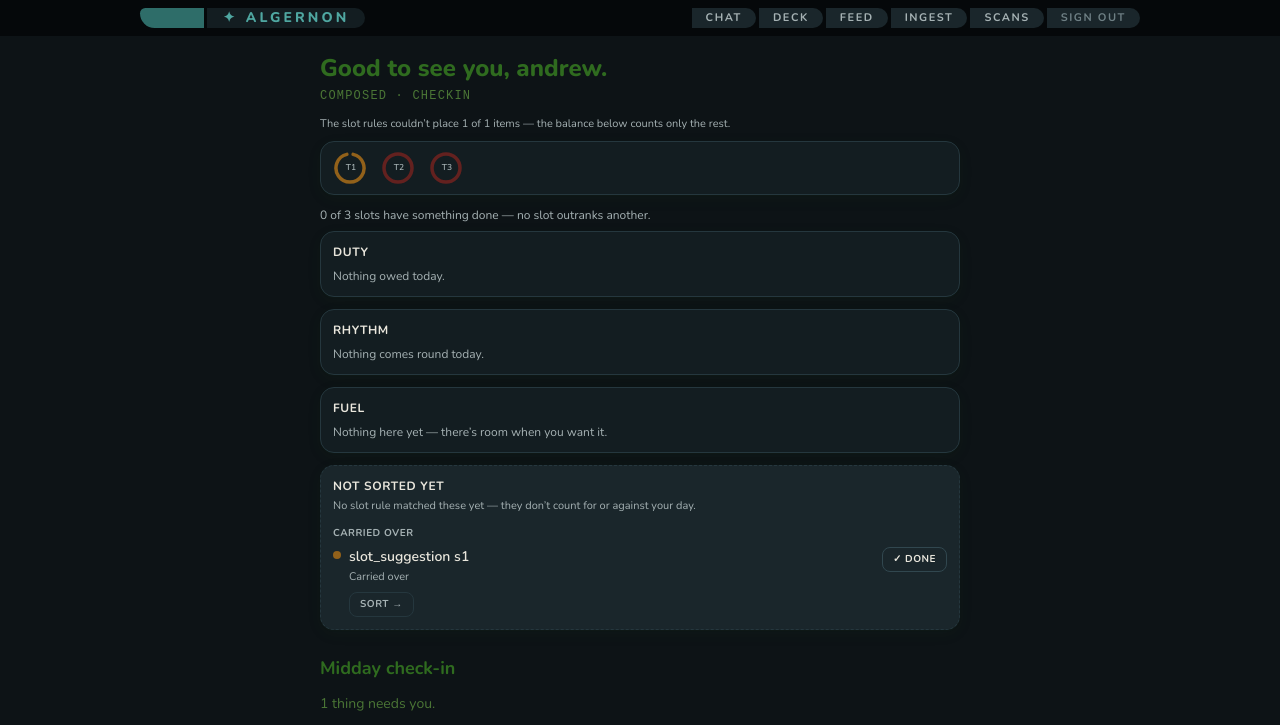
HomePage composer — a rings completion moves needs-you in the SAME render › a FAILED completion leaves the count where it was (tracks success, not the tap)
The width and height of the screenshot is (1280, 725).
Expected: the text "1 thing needs you." is shown, [320,694,435,712]
Click the button with test id "ring-1" at (351, 168), box [333,150,369,186]
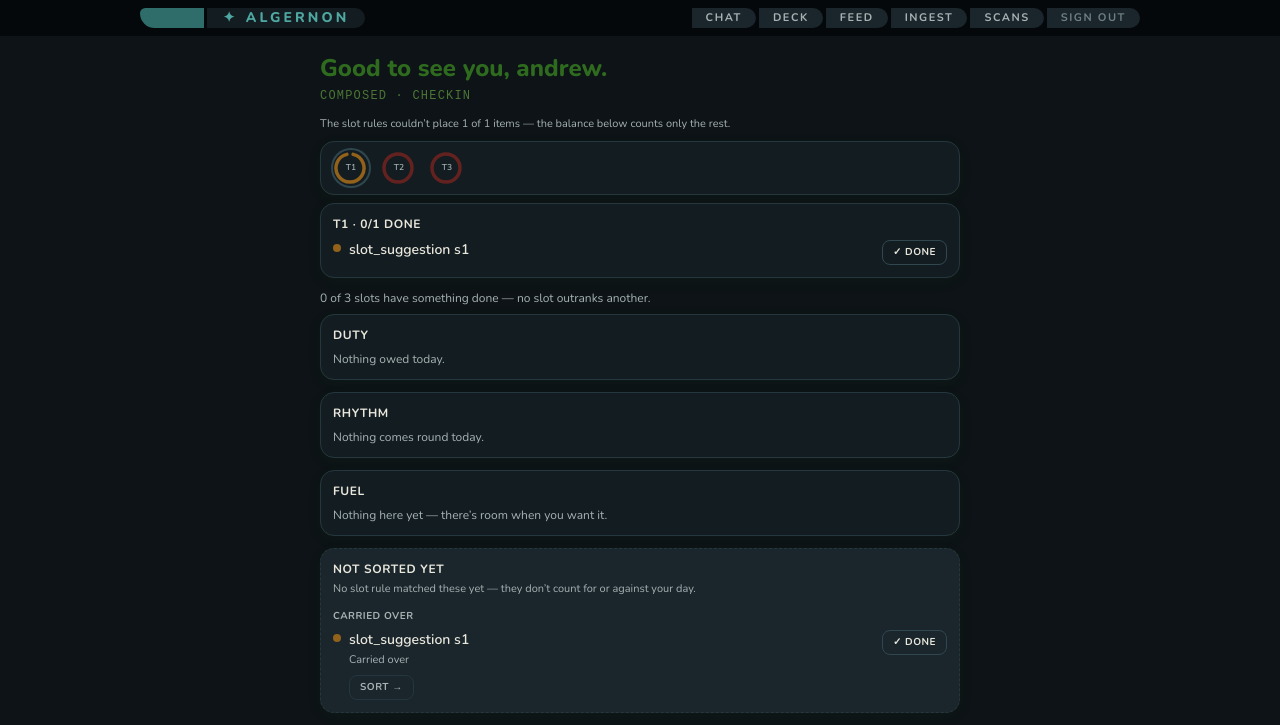
Click the button with test id "ring-complete" at (914, 252), box [882,240,947,264]
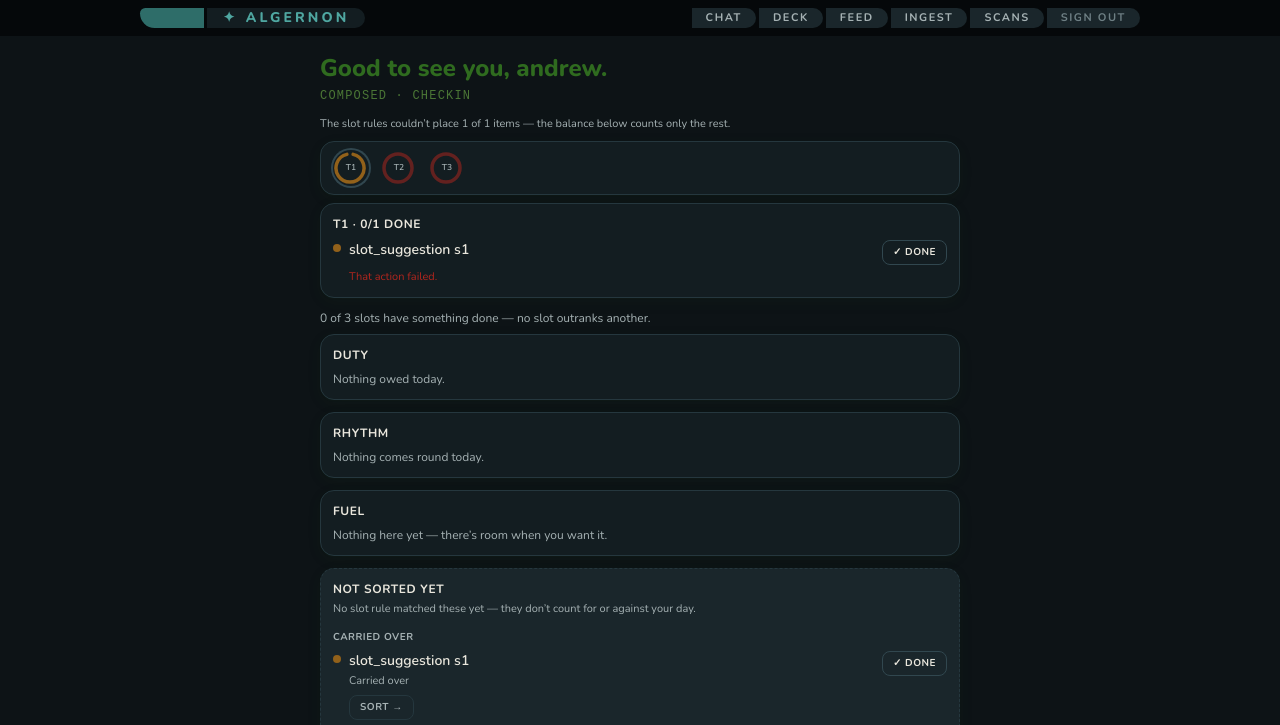
Expected: the message with test id "ring-item-error" reads "That action failed.", [349,268,437,284]
